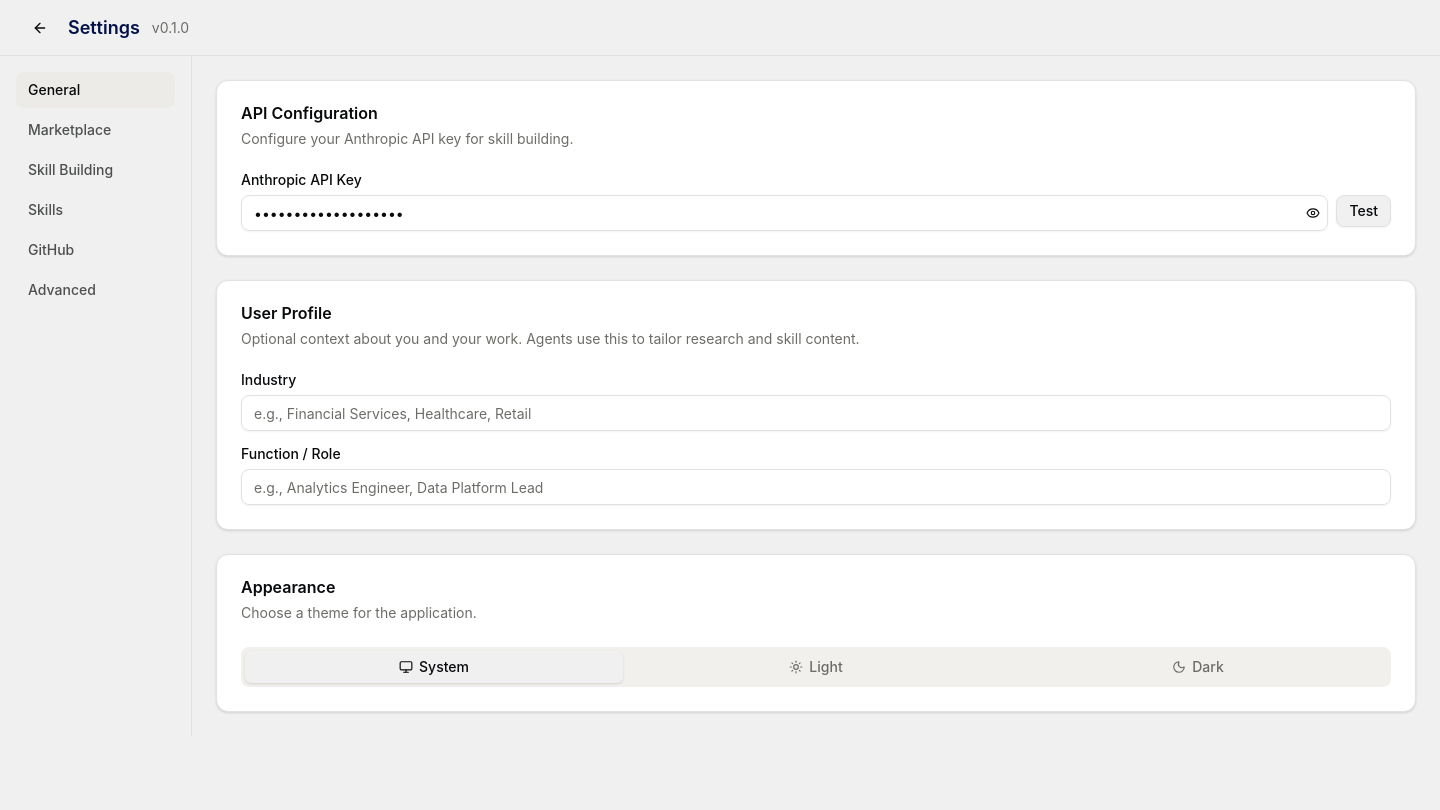
SettingsPage › shows Saved indicator after auto-save
expect the heading "Settings" is shown: met, box x1=68 y1=14 x2=140 y2=42
Click the button "Skill Building": x=96, y=170 x1=16 y1=152 x2=175 y2=188
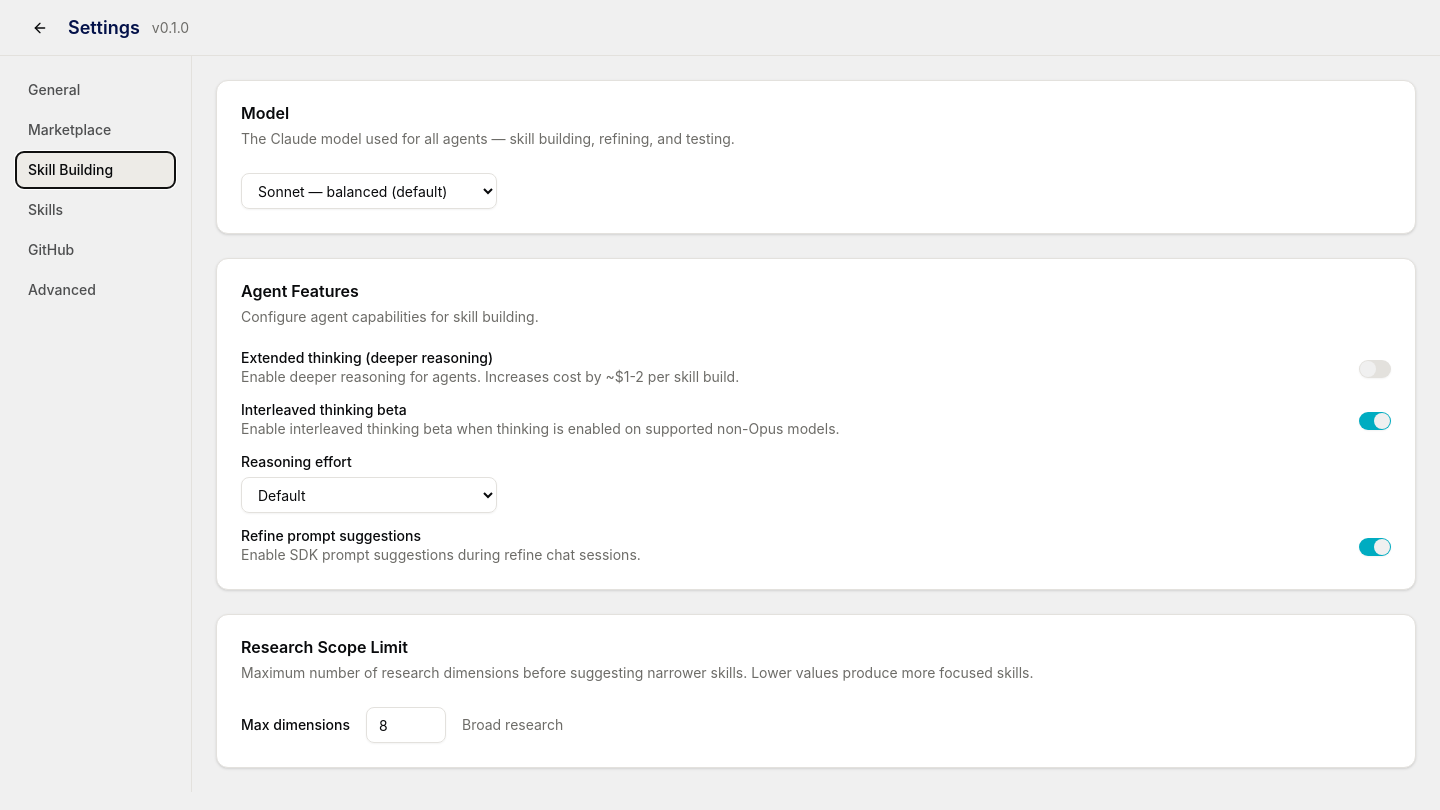
Click the switch named "Extended thinking" in the row of "Extended thinking (deeper reasoning)": x=1375, y=369 x1=1359 y1=360 x2=1391 y2=378
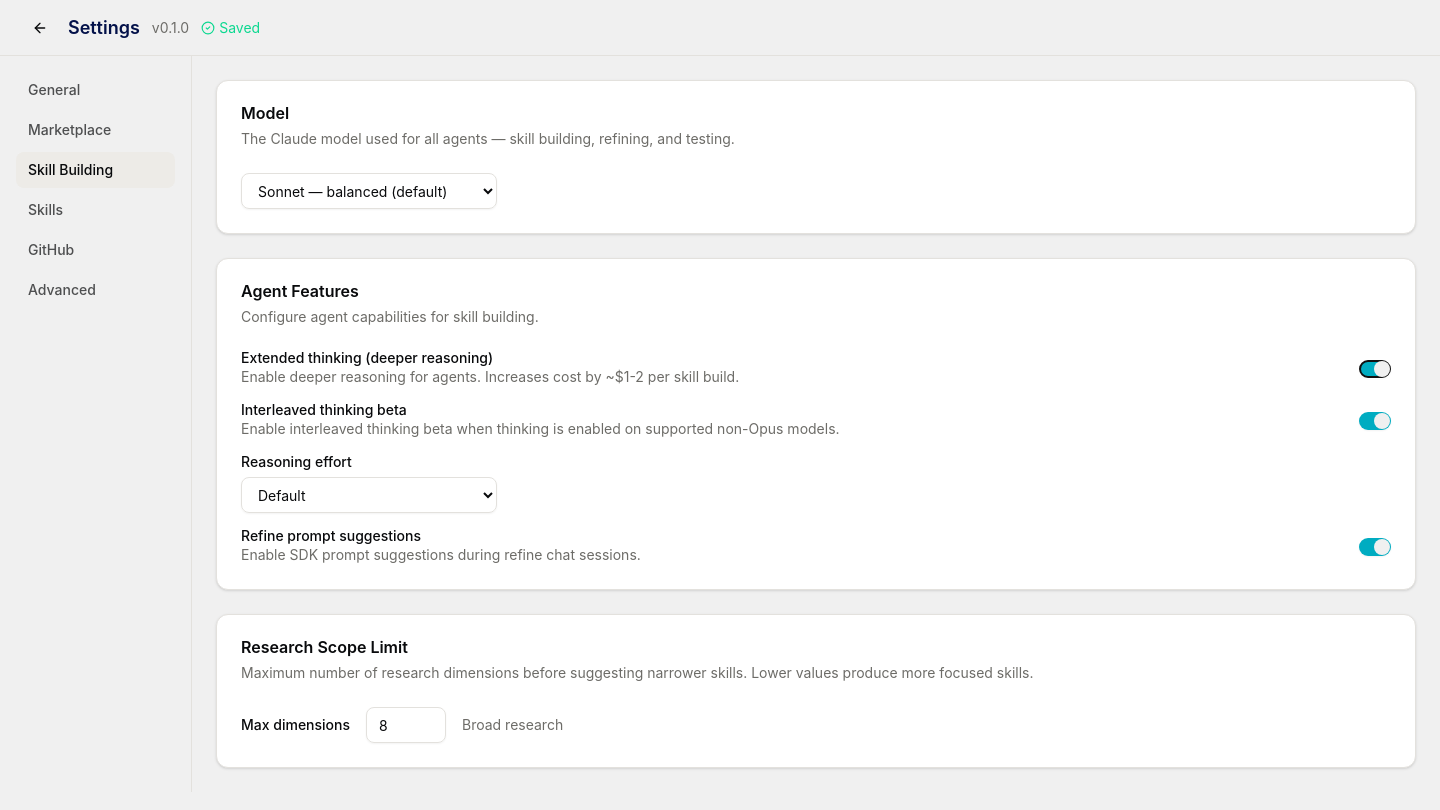
expect the text "Saved" is shown: met, box x1=201 y1=18 x2=260 y2=38
